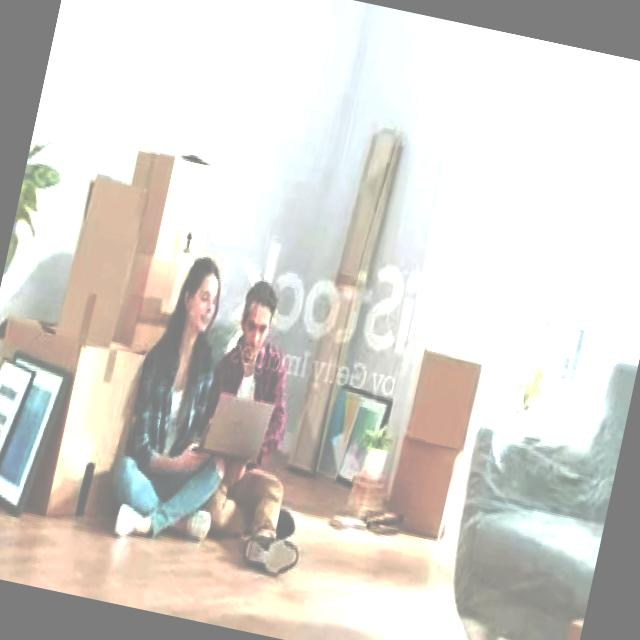Box: (81, 130, 213, 347), (403, 342, 487, 450), (381, 439, 462, 540)
